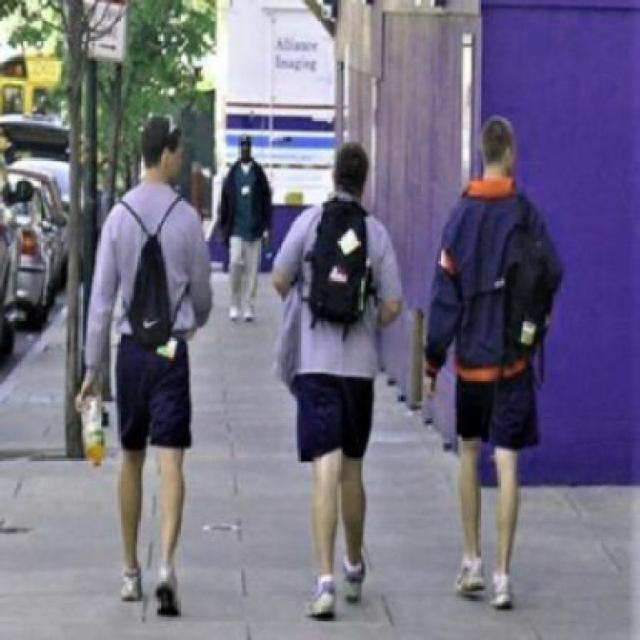Person: (424, 111, 568, 615), (77, 107, 212, 618), (270, 135, 404, 620), (214, 120, 274, 322)
